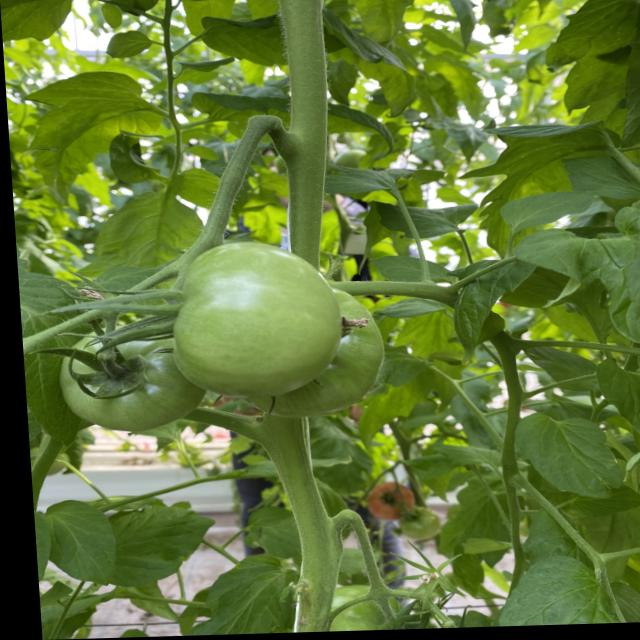yesil: (51, 232, 369, 453)
